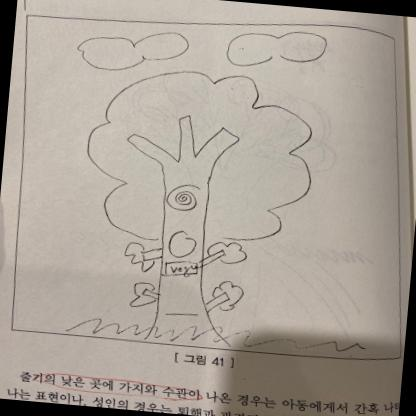branch_cut: (124, 112, 240, 180)
crown_cloud: (82, 63, 320, 254)
knot: (165, 180, 202, 212)
trunk_straight: (154, 213, 218, 318)
